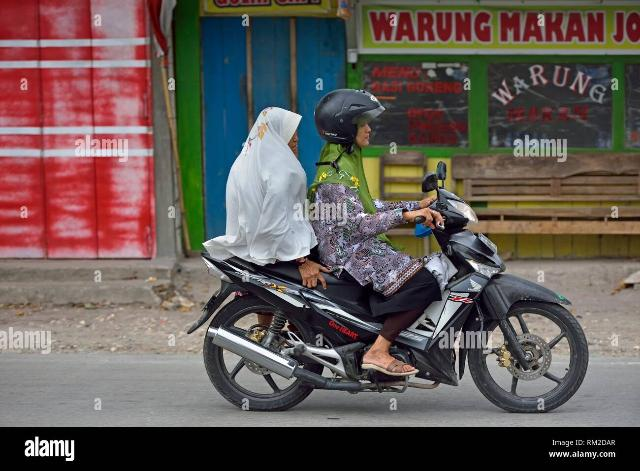helm: (314, 90, 389, 152)
motor: (193, 160, 583, 414)
non-helm: (255, 107, 305, 162)
